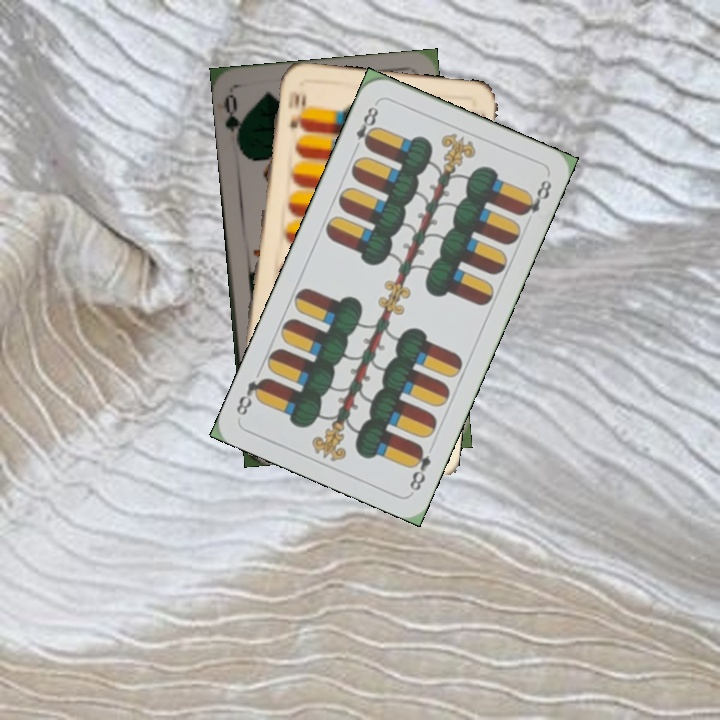E10: (284, 87, 303, 131)
E8: (349, 98, 381, 154), (405, 441, 434, 494)
GO: (219, 91, 248, 150)
